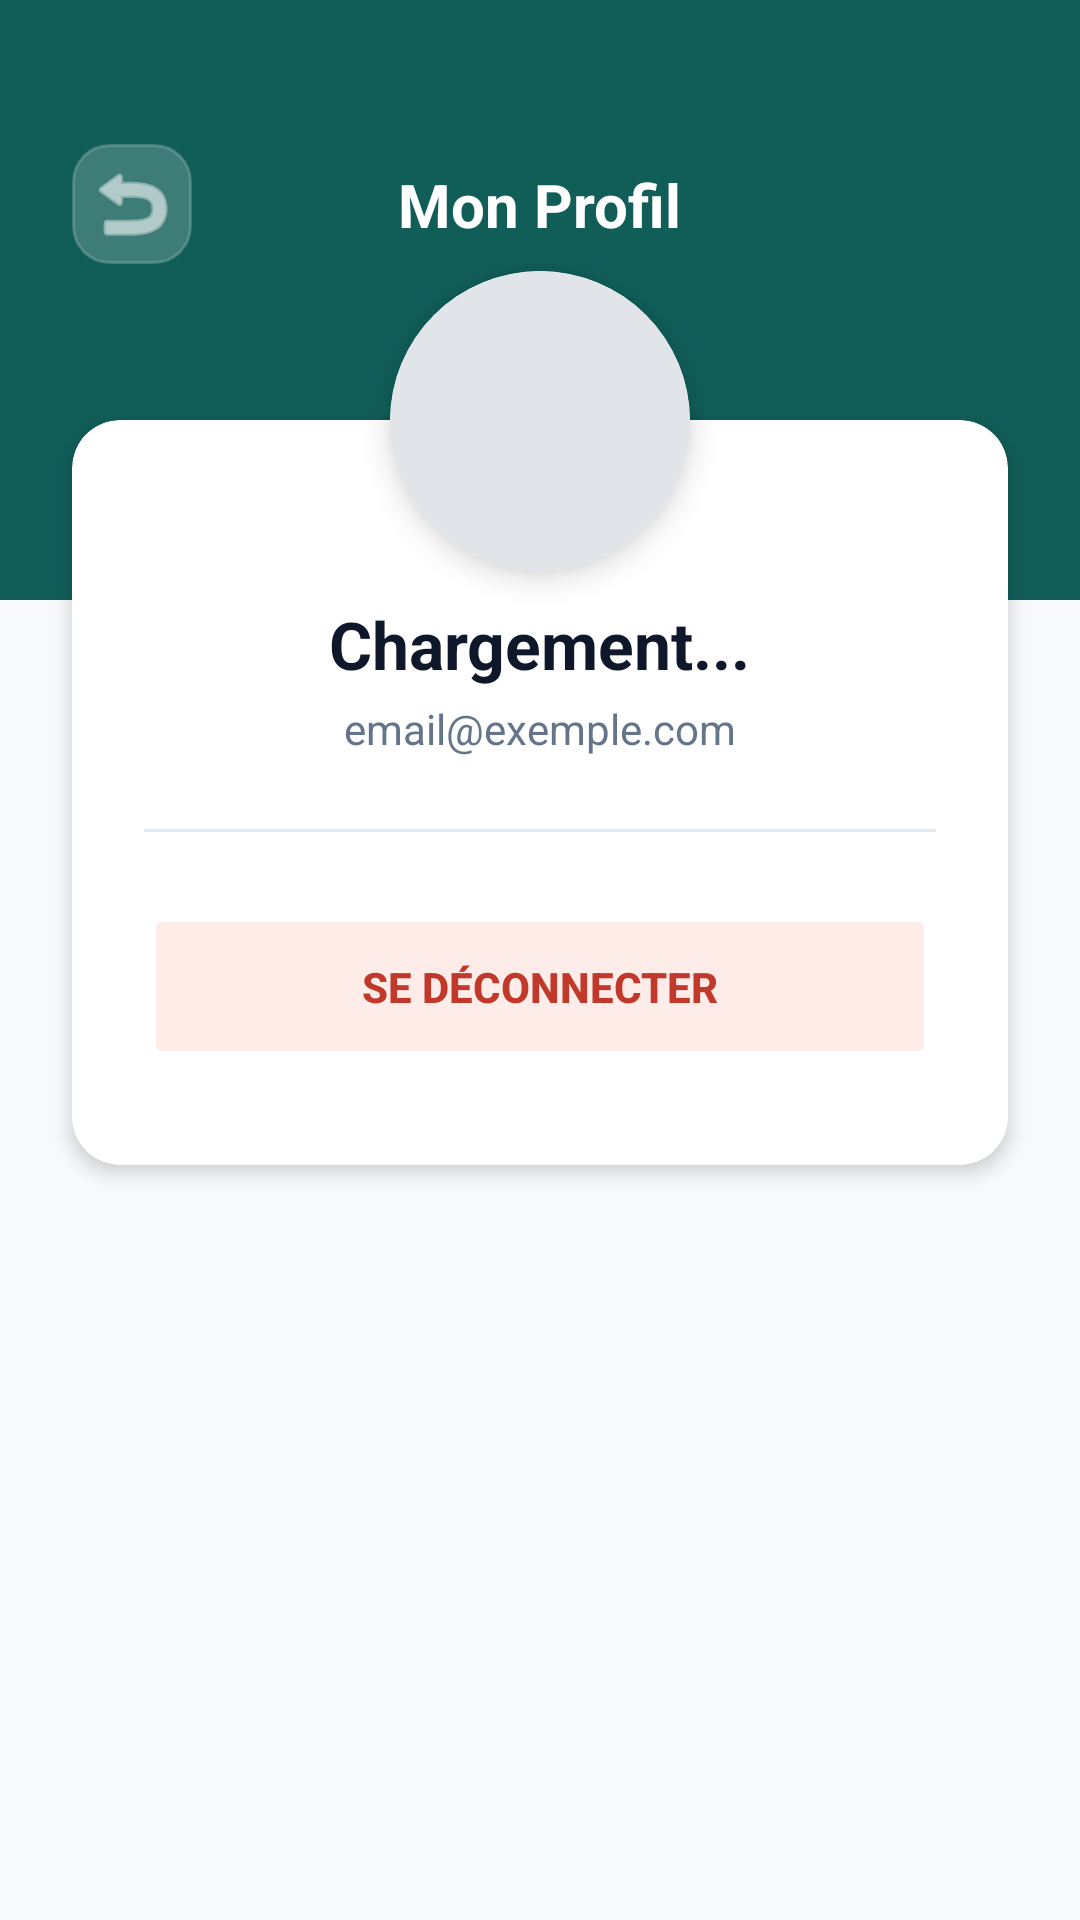

Icon click points for this 1080×1920 phone screenshot, format (x,y):
revert: (132,204)
